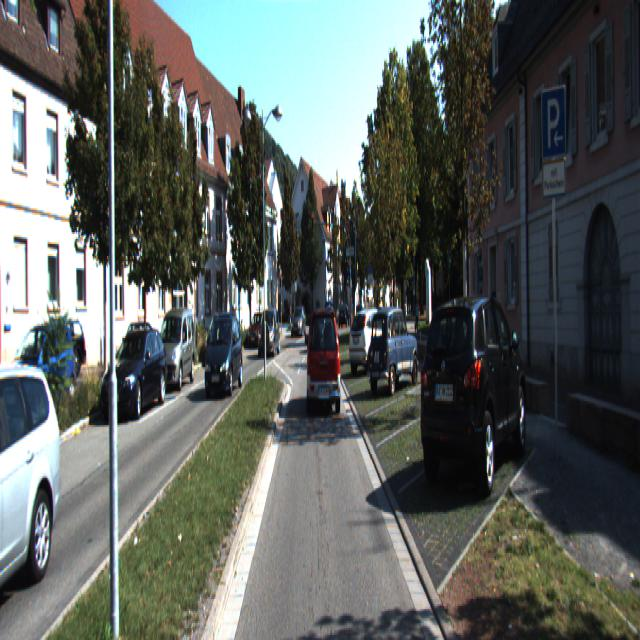Car: (418, 288, 530, 500), (0, 340, 73, 611), (1, 321, 76, 420), (101, 325, 169, 423), (367, 304, 421, 398), (22, 315, 88, 381), (153, 308, 196, 395), (308, 309, 342, 416), (204, 311, 244, 397), (348, 309, 395, 374), (204, 310, 235, 364), (258, 307, 281, 358), (246, 312, 271, 350), (291, 307, 307, 338), (338, 303, 350, 328)
